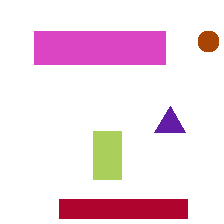circle: (198, 31, 218, 51)
rectangle: (34, 31, 165, 64), (59, 199, 187, 218), (93, 131, 121, 179)
triangle: (154, 106, 185, 132)
